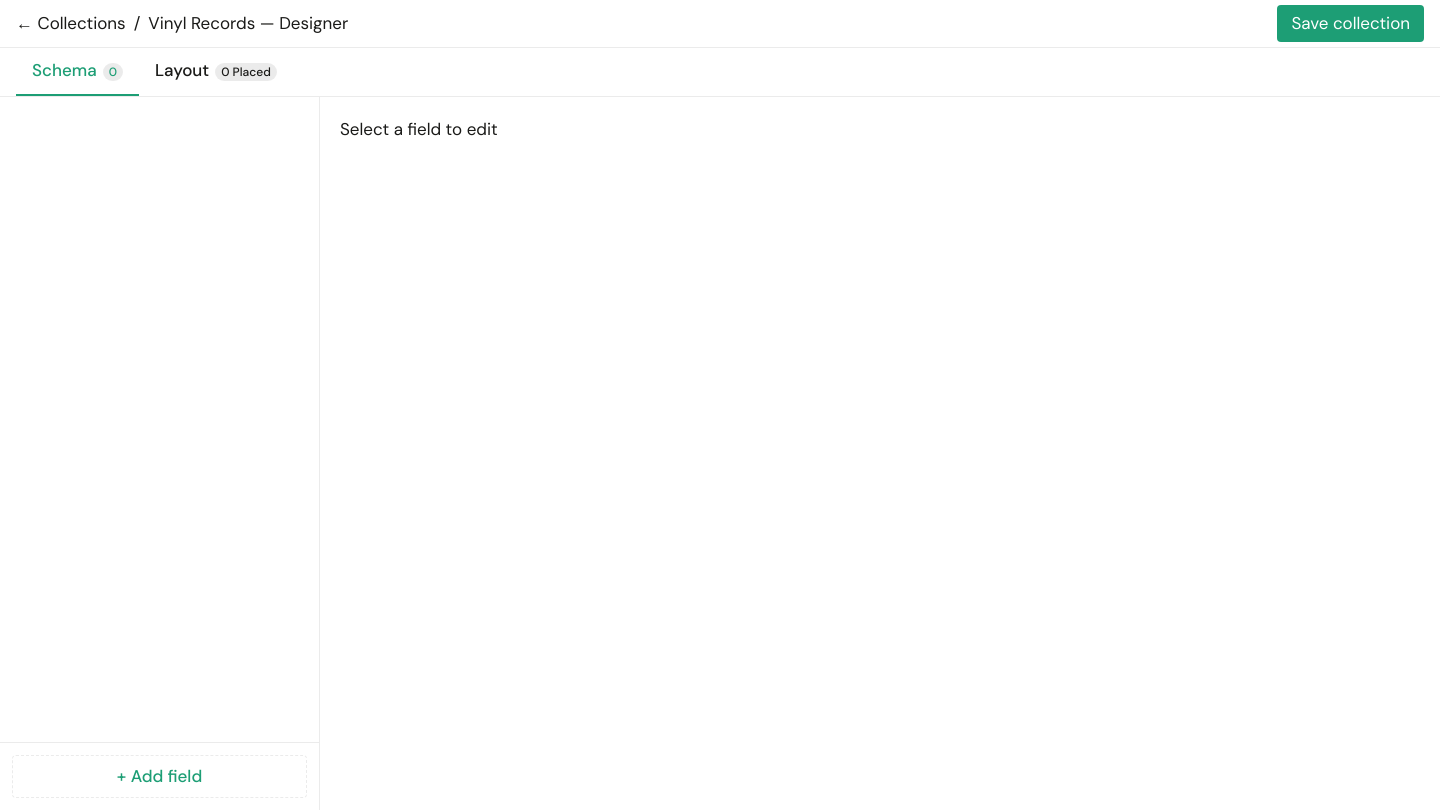
Test case: CollectionDesignerPage — Schema tab › clicking Add field button shows the type picker grid
Click the button labelled "+ Add field" at coordinates (160, 776), box [12,754,307,798]
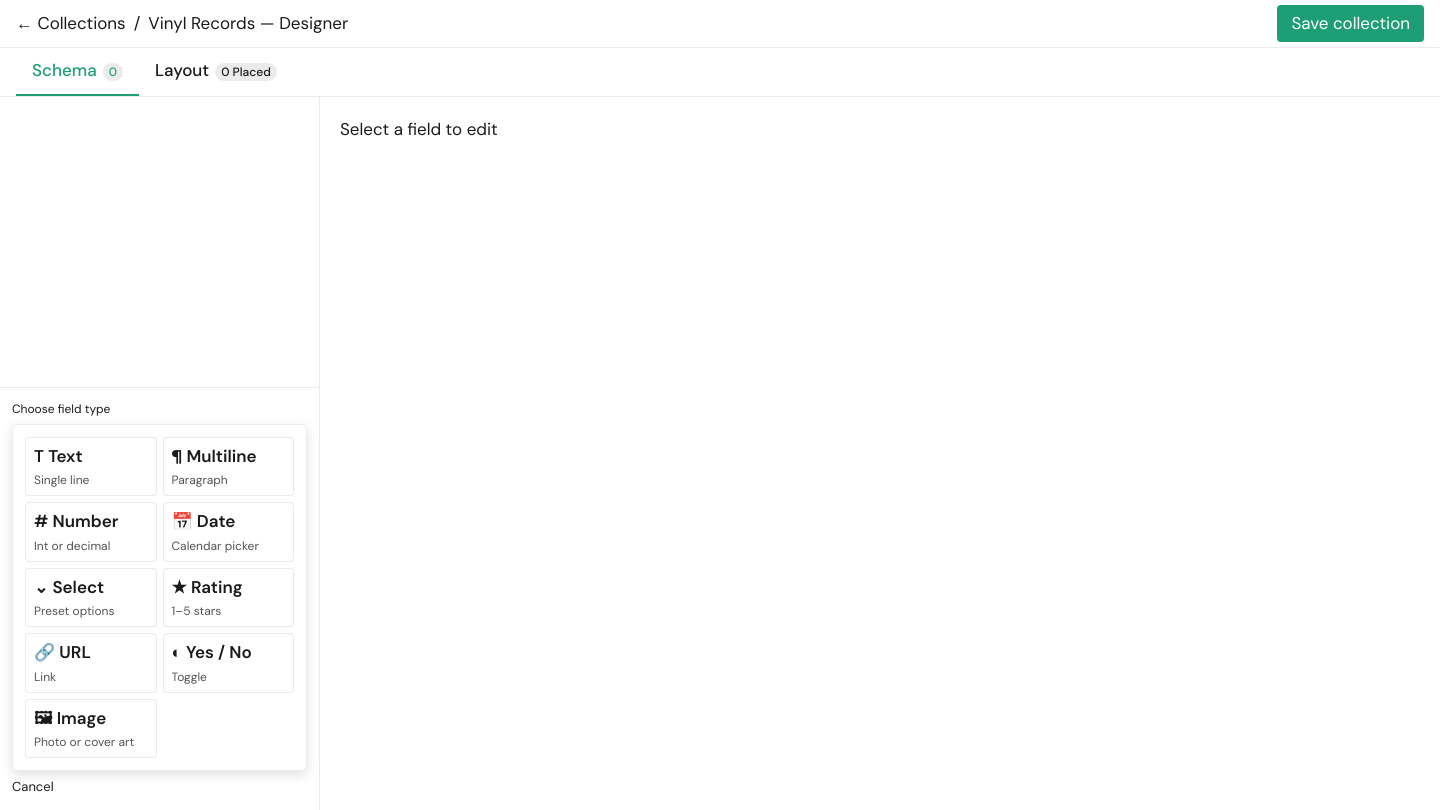
Result: the text "Single line" is shown at [34,471,89,489]
Result: the text "Preset options" is shown at [34,602,114,620]
Result: the text "Toggle" is shown at [172,668,207,686]
